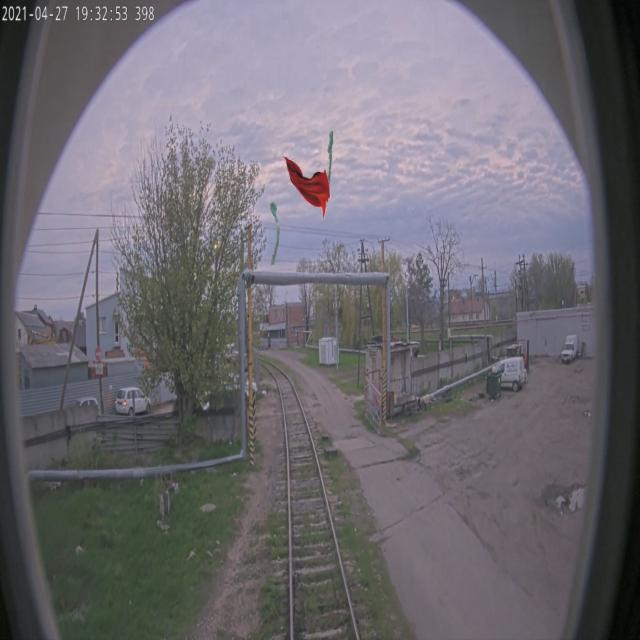floating object: (282, 156, 331, 220), (270, 201, 280, 265), (326, 130, 334, 194)
